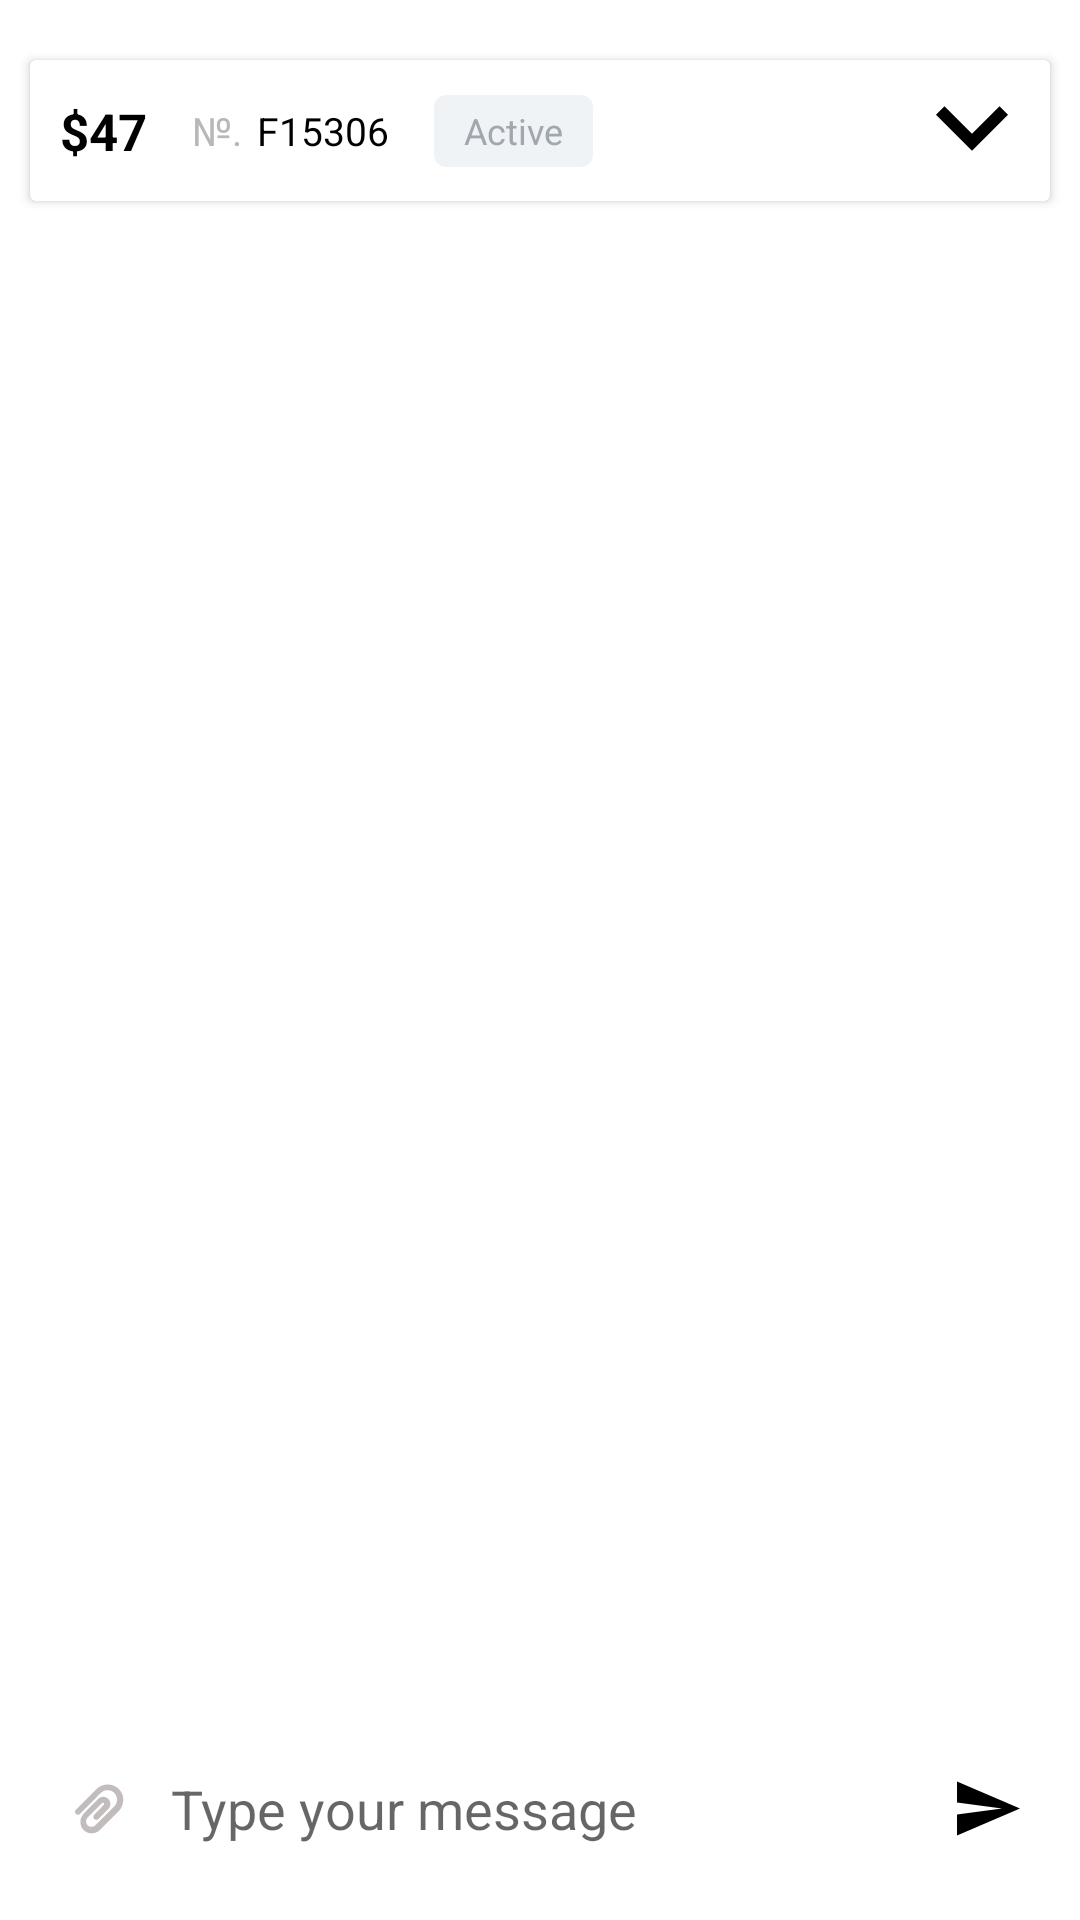

Point at icon controls on the screen. Image size 1080*1920, points as (x=x, y=y).
attach: (x=99, y=1809)
chevron down: (x=972, y=128)
send: (x=988, y=1808)
